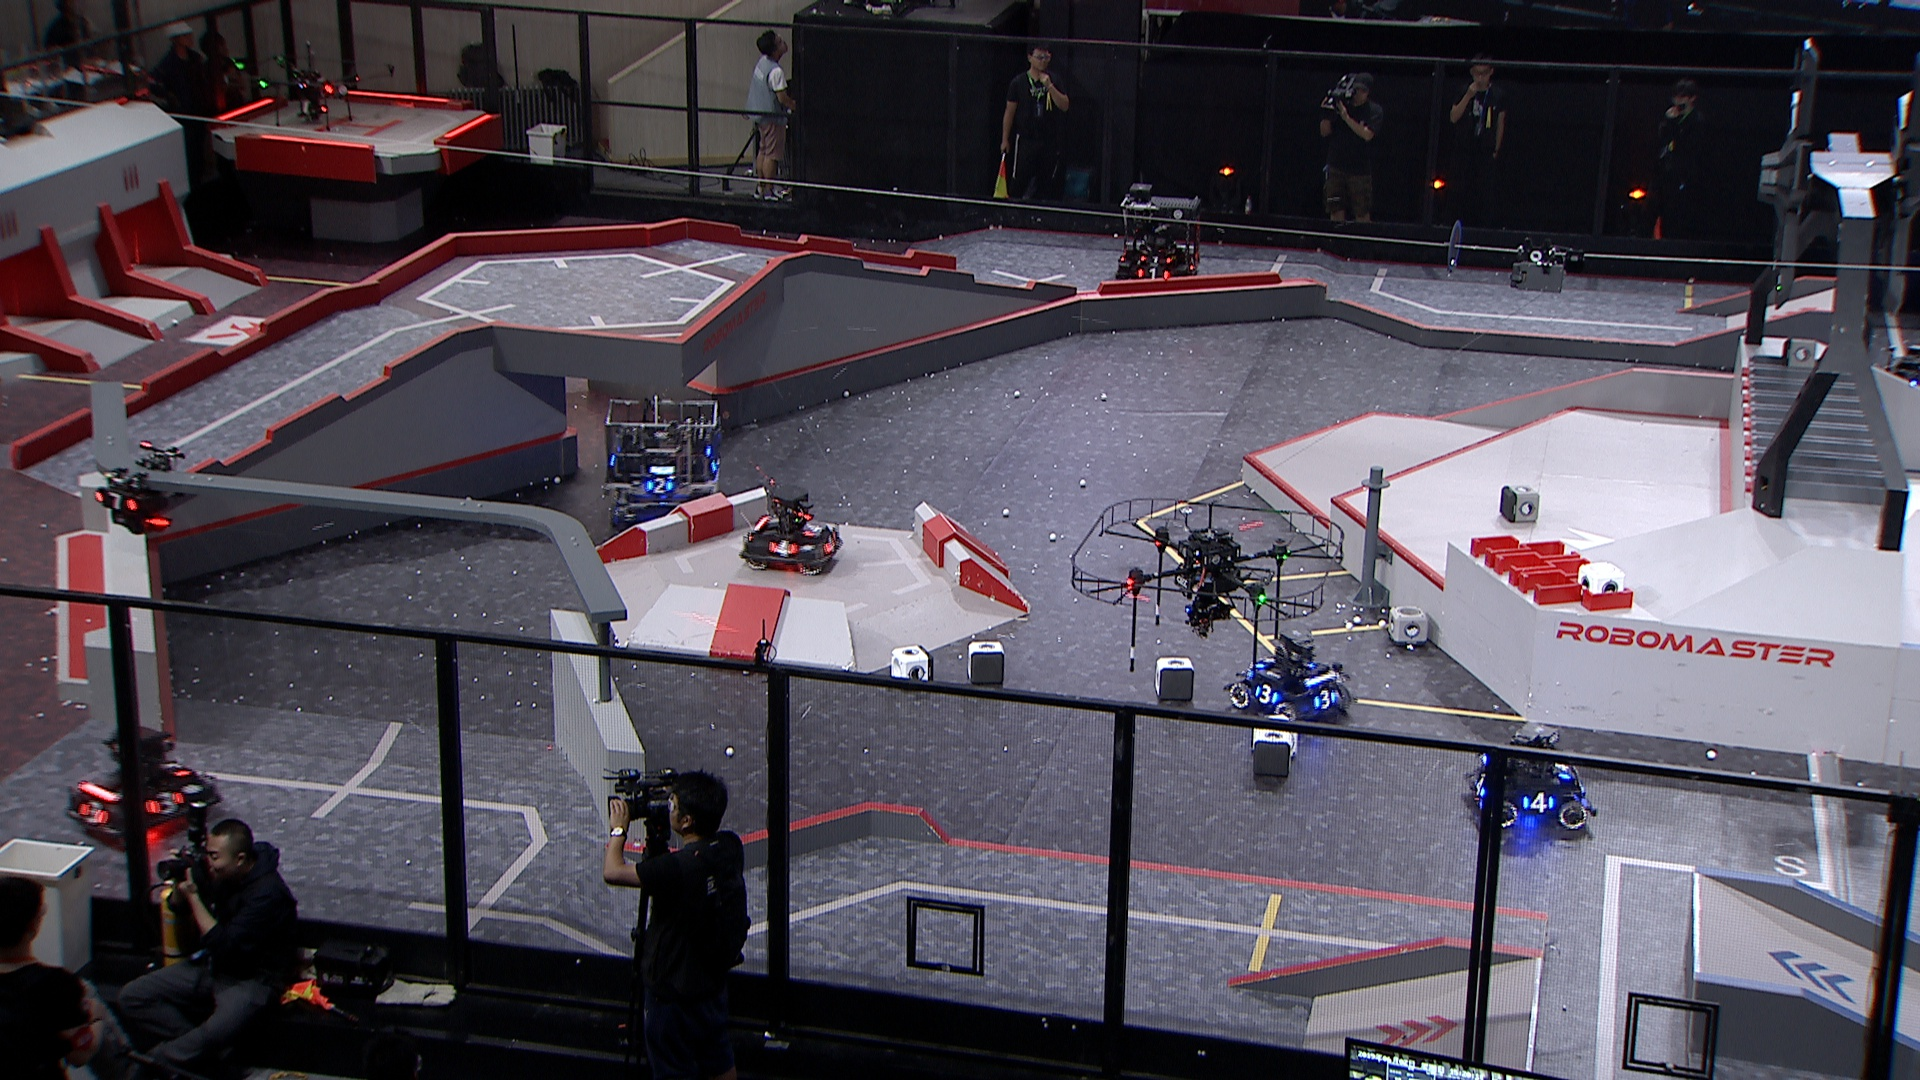armor: (92, 487, 141, 516), (142, 790, 183, 818), (1520, 793, 1557, 816), (76, 800, 111, 825), (158, 760, 191, 779), (1313, 687, 1337, 712), (1253, 683, 1280, 704), (767, 538, 799, 556), (647, 477, 676, 496), (1552, 760, 1575, 783), (1138, 252, 1174, 266), (1135, 266, 1168, 281), (822, 531, 840, 556), (1470, 774, 1487, 798), (800, 520, 823, 537), (1185, 256, 1201, 273)
car: (67, 723, 222, 849), (599, 396, 724, 531), (1462, 723, 1602, 831), (1226, 629, 1354, 727), (736, 485, 844, 575), (1110, 190, 1205, 289)
watcher: (90, 439, 187, 533)
